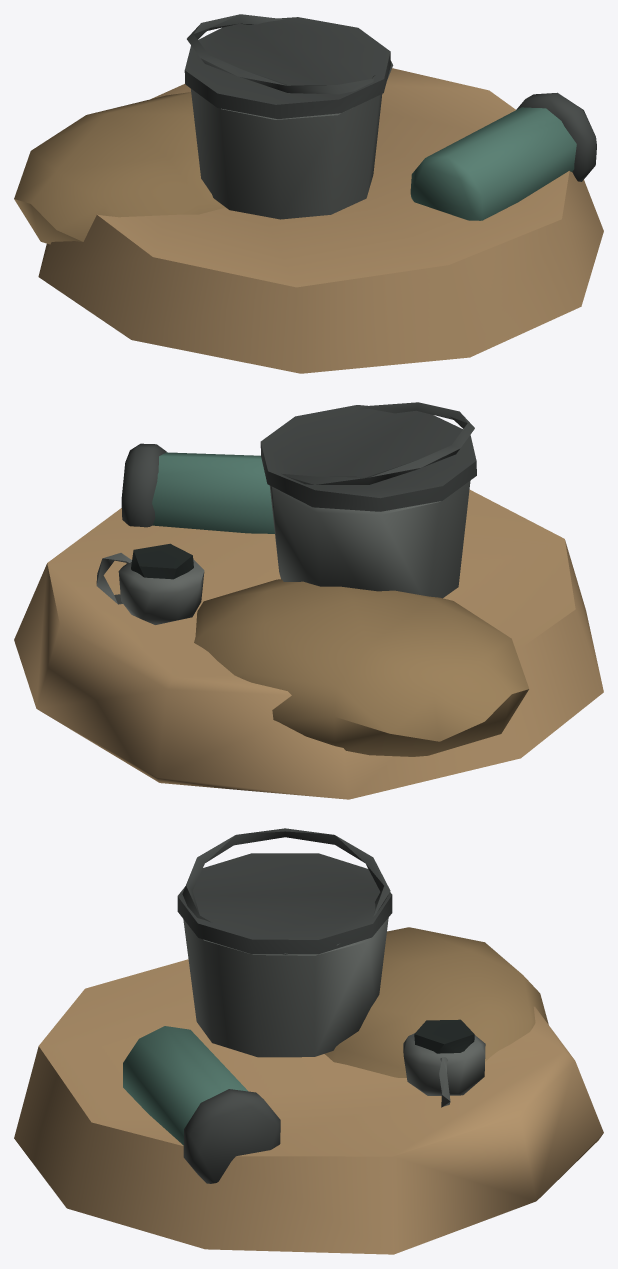
The model's file is lunch_pail_a_lod1.glb.
The picture shows the model from 3 angles, top to bottom: view 1: azimuth 30°, elevation 25°; view 2: azimuth 150°, elevation 25°; view 3: azimuth 270°, elevation 25°; orthographic projection. The views are drawn at different scales.
Visible parts, largest first — view 1: Surface.001; view 2: Surface.001; view 3: Surface.001.
Boxes of the visible parts, <box> form: Surface.001: <box>14,14,603,373</box>; Surface.001: <box>14,402,603,799</box>; Surface.001: <box>14,828,603,1254</box>.
Bounding box in the file's own units: 2.42 × 1.16 × 2.5.
